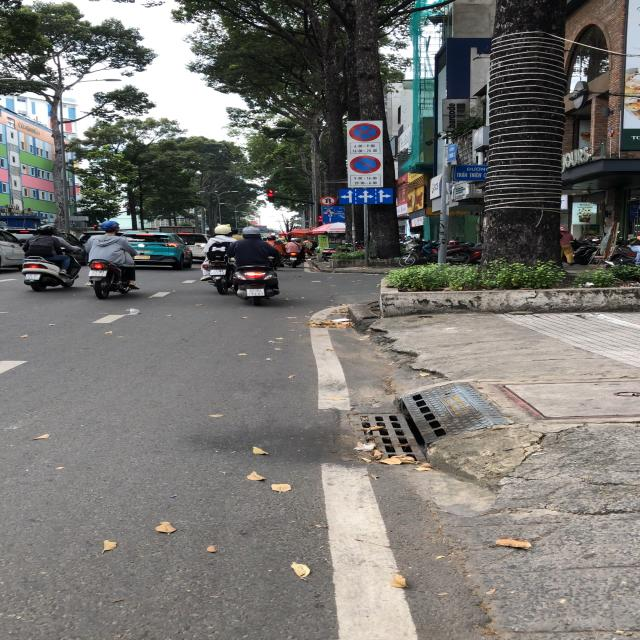Bien bao cam do xe: (348, 152, 380, 174)
Bien bao cam dung xe va do xe: (346, 120, 383, 142)
Bien bao cam quay dau xe: (319, 194, 337, 206)
